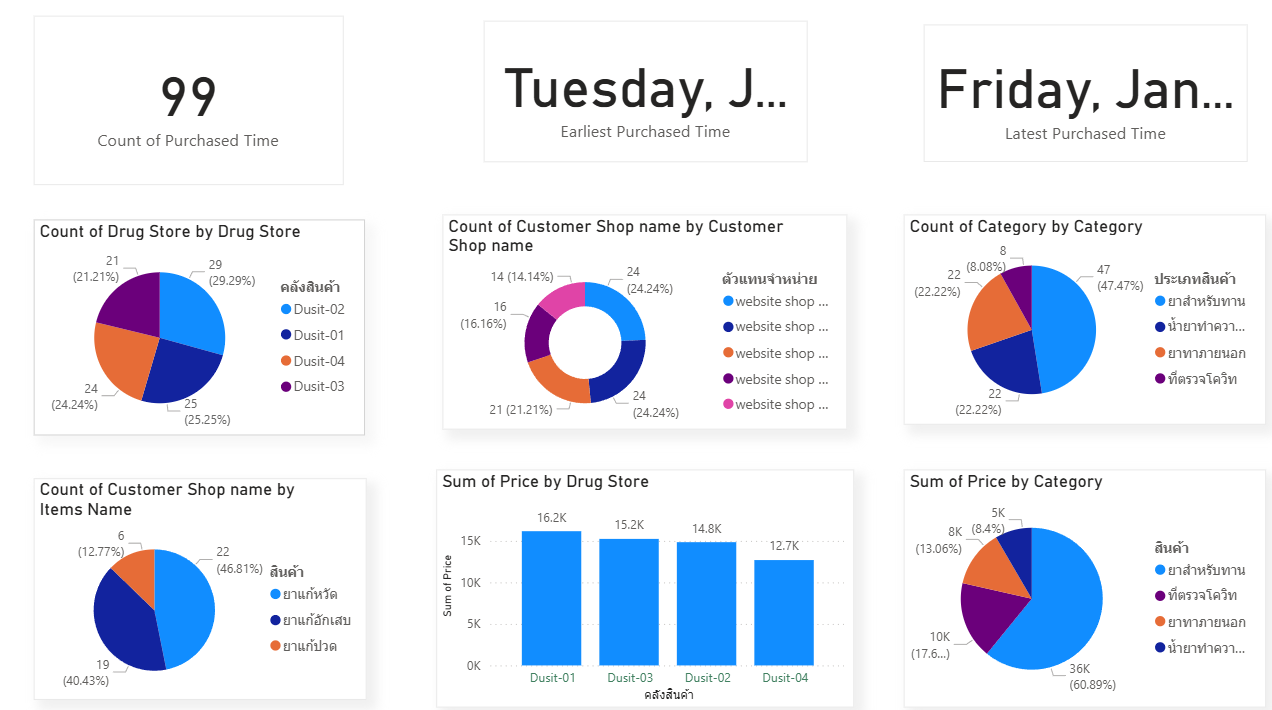

What the dashboard file says about the page in this screenshot:
{"tool":"powerbi","page":{"name":"หน้า 1","canvas":[1280,720],"ordinal":0},"visuals":[{"type":"card","fields":{"Values":["CountNonNull(Sheet1.Purchased Time)"]},"box":[42.9,28.6,302.9,165.7],"z":0},{"type":"card","fields":{"Values":["Min(Sheet1.Purchased Time)"]},"box":[482.9,32.9,317.1,138.6],"z":1000},{"type":"card","fields":{"Values":["Max(Sheet1.Purchased Time)"]},"box":[912.9,37.1,317.1,134.3],"z":2000},{"type":"pieChart","fields":{"Category":["Sheet1.Drug Store"],"Y":["CountNonNull(Sheet1.Drug Store)"]},"box":[42.9,227.1,324.3,211.4],"z":3000},{"type":"donutChart","fields":{"Category":["Sheet1.Customer Shop name"],"Y":["CountNonNull(Sheet1.Customer Shop name)"]},"box":[442.9,222.9,395.7,210],"z":4000},{"type":"pieChart","fields":{"Category":["Sheet1.Category"],"Y":["CountNonNull(Sheet1.Category)"]},"box":[894.3,222.9,354.3,205.7],"z":5000},{"type":"pieChart","fields":{"Category":["Sheet1.Items Name"],"Y":["CountNonNull(Sheet1.Customer Shop name)"]},"box":[42.9,480,325.7,217.1],"z":6000},{"type":"clusteredColumnChart","fields":{"Category":["Sheet1.Drug Store"],"Y":["Sum(Sheet1.Price)"]},"box":[437.1,471.4,408.6,232.9],"z":7000},{"type":"pieChart","fields":{"Category":["Sheet1.Category"],"Y":["Sum(Sheet1.Price)"]},"box":[894.3,471.4,354.3,232.9],"z":8000}]}

Visuals, with their boxes in screenshot pixels (x1, y1, x2, y2), scaled from the page's 1280x720 canvas onto the 1272x710 screenshot:
card - CountNonNull(Sheet1.Purchased Time): x1=43, y1=28, x2=344, y2=192
card - Min(Sheet1.Purchased Time): x1=480, y1=32, x2=795, y2=169
card - Max(Sheet1.Purchased Time): x1=907, y1=37, x2=1222, y2=169
pieChart - Sheet1.Drug Store x CountNonNull(Sheet1.Drug Store): x1=43, y1=224, x2=365, y2=432
donutChart - Sheet1.Customer Shop name x CountNonNull(Sheet1.Customer Shop name): x1=440, y1=220, x2=833, y2=427
pieChart - Sheet1.Category x CountNonNull(Sheet1.Category): x1=889, y1=220, x2=1241, y2=423
pieChart - Sheet1.Items Name x CountNonNull(Sheet1.Customer Shop name): x1=43, y1=473, x2=366, y2=687
clusteredColumnChart - Sheet1.Drug Store x Sum(Sheet1.Price): x1=434, y1=465, x2=840, y2=695
pieChart - Sheet1.Category x Sum(Sheet1.Price): x1=889, y1=465, x2=1241, y2=695
